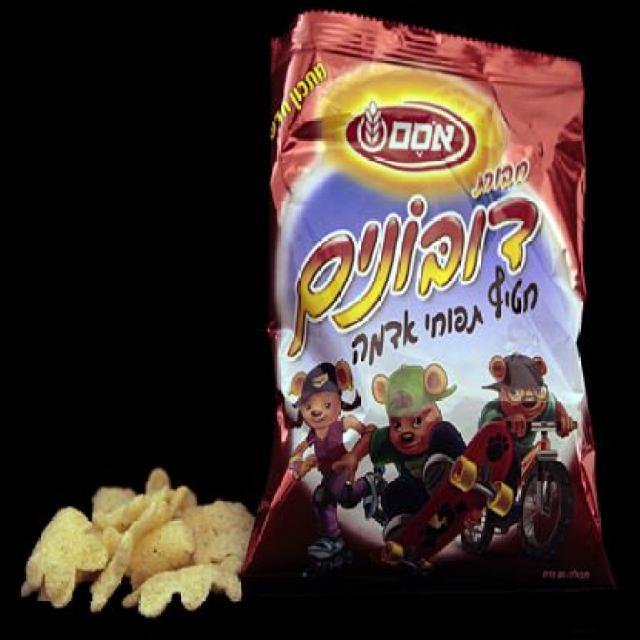Chips: (253, 15, 613, 598)
Chips packaged: (11, 461, 302, 639)
